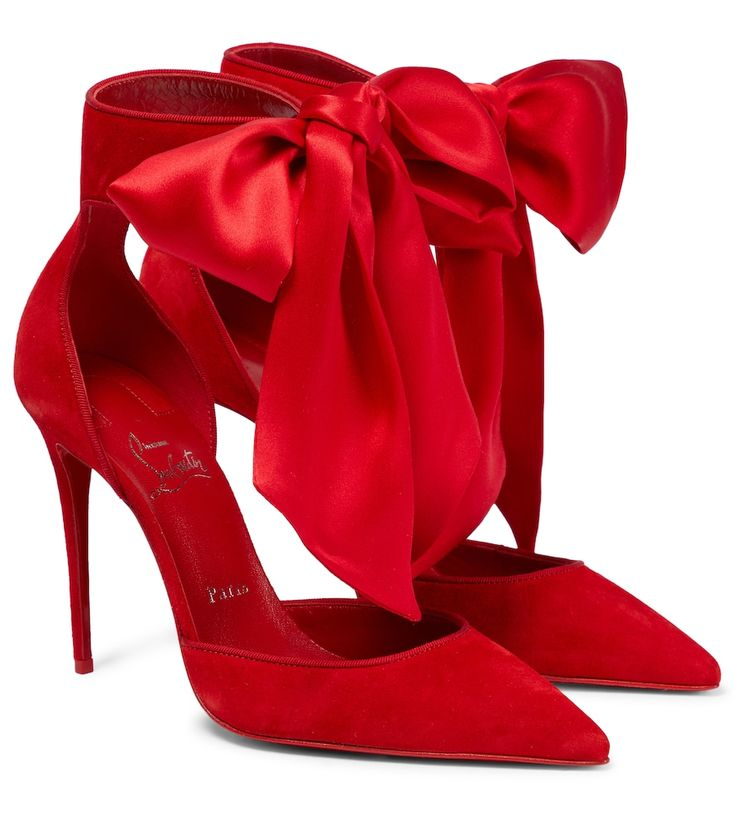gamuza: (15, 46, 721, 769)
